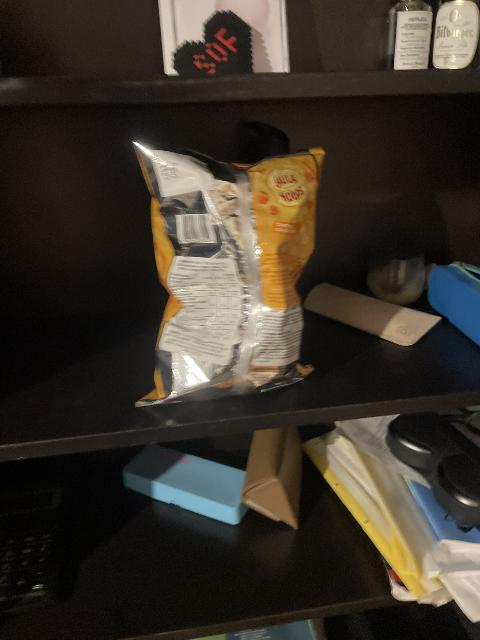Chio Hula Hoops Cheese 70g: (132, 145, 326, 401)
